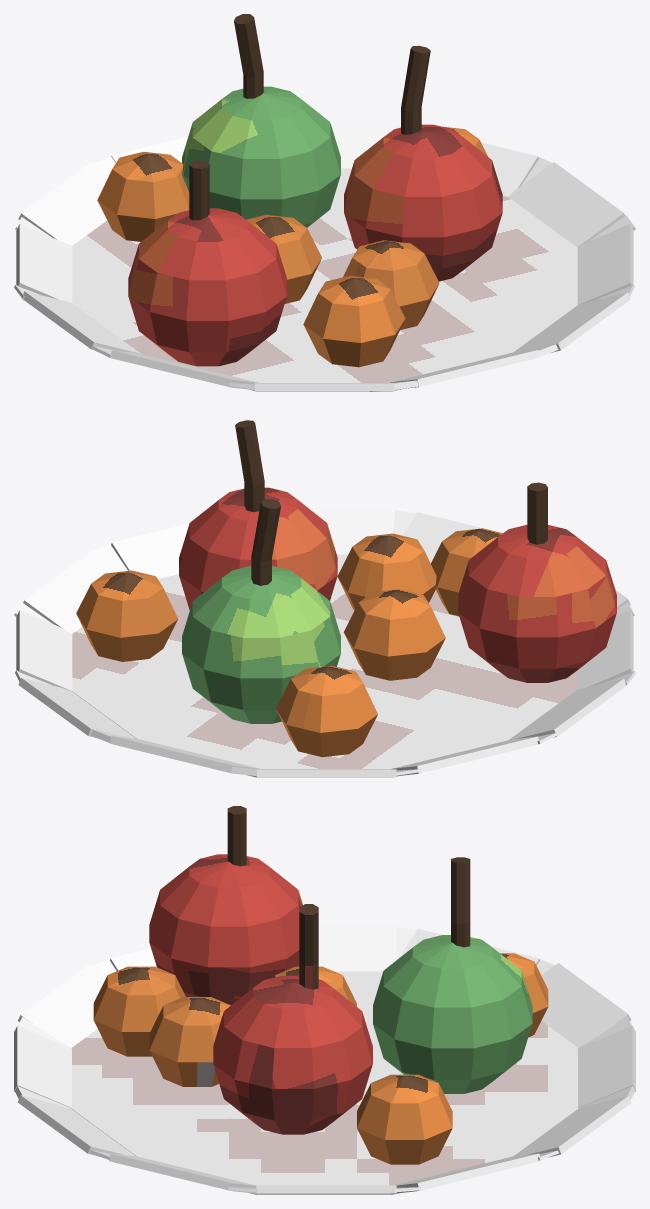
File: fruitplate.fbx
3 renders of one model, top to bottom at view 1: azimuth 30°, elevation 25°; view 2: azimuth 150°, elevation 25°; view 3: azimuth 270°, elevation 25°, orthographic.
Parts seen in each view (by area): view 1: cylinder, sphere_2, sphere_1, sphere, sphere_4, sphere_6, cube_2, sphere_3, cube_4, cube_7, cube_10, sphere_5 (+11 smaller); view 2: cylinder, sphere_2, sphere, sphere_1, sphere_5, sphere_6, sphere_7, sphere_3, cube_6, cube_2, sphere_4, cube_7 (+13 smaller); view 3: cylinder, sphere_1, sphere, sphere_2, sphere_7, sphere_4, sphere_3, cube_4, cube_9, cube_3, cube, cube_1 (+11 smaller).
Part boxes in pixels (bbox=[...]): cylinder: bbox=[72, 168, 577, 391]; sphere_2: bbox=[128, 208, 286, 366]; sphere_1: bbox=[344, 124, 502, 281]; sphere: bbox=[182, 86, 340, 227]; sphere_4: bbox=[303, 275, 405, 367]; sphere_6: bbox=[97, 151, 189, 241]; cube_2: bbox=[508, 162, 625, 247]; sphere_3: bbox=[343, 240, 439, 329]; cube_4: bbox=[18, 162, 108, 245]; cube_7: bbox=[577, 224, 633, 305]; cube_10: bbox=[16, 224, 72, 302]; sphere_5: bbox=[246, 214, 321, 303]; cylinder: bbox=[72, 554, 577, 777]; sphere_2: bbox=[458, 525, 616, 682]; sphere: bbox=[182, 566, 340, 723]; sphere_1: bbox=[179, 487, 337, 610]; sphere_5: bbox=[343, 589, 445, 680]; sphere_6: bbox=[276, 665, 377, 757]; sphere_7: bbox=[76, 570, 177, 661]; sphere_3: bbox=[337, 533, 436, 610]; cube_6: bbox=[16, 610, 72, 691]; cube_2: bbox=[23, 549, 123, 633]; sphere_4: bbox=[431, 528, 502, 616]; cube_7: bbox=[111, 523, 189, 578]; cylinder: bbox=[71, 971, 578, 1194]; sphere_1: bbox=[213, 975, 372, 1134]; sphere: bbox=[373, 935, 532, 1093]; sphere_2: bbox=[149, 854, 302, 1005]; sphere_7: bbox=[357, 1074, 452, 1164]; sphere_4: bbox=[93, 966, 185, 1056]; sphere_3: bbox=[149, 997, 230, 1086]; cube_4: bbox=[541, 963, 631, 1047]; cube_9: bbox=[17, 963, 106, 1047]; cube_3: bbox=[318, 925, 396, 971]; cube: bbox=[14, 1025, 71, 1107]; cube_1: bbox=[578, 1025, 635, 1107].
Size of the model in its own units: 122 by 48 by 122.
Materials: 1 (1 with a texture image).
